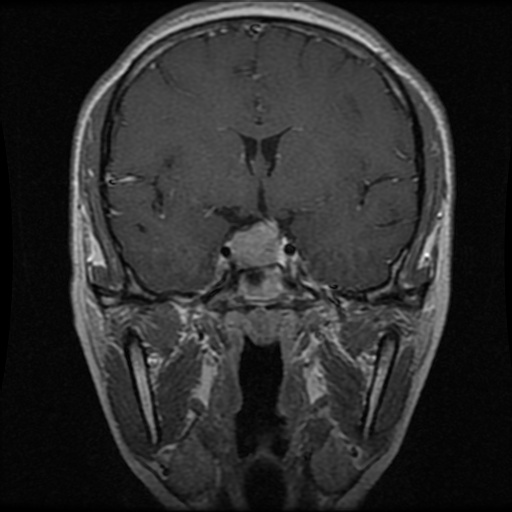pituitary: (230, 217, 286, 267)
